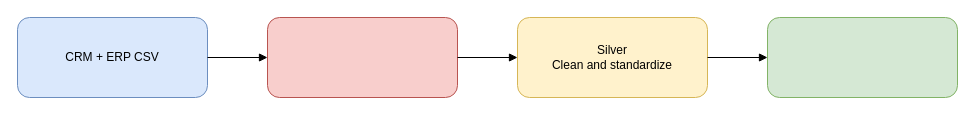
Image size: 975x115. Some labels were removed from this diagram. Here are the shapes that lost their labels. From the top down, the centre of each, then its label:
At (362,57): "Bronze Raw copies".
At (862,57): "Gold Star schema views".
